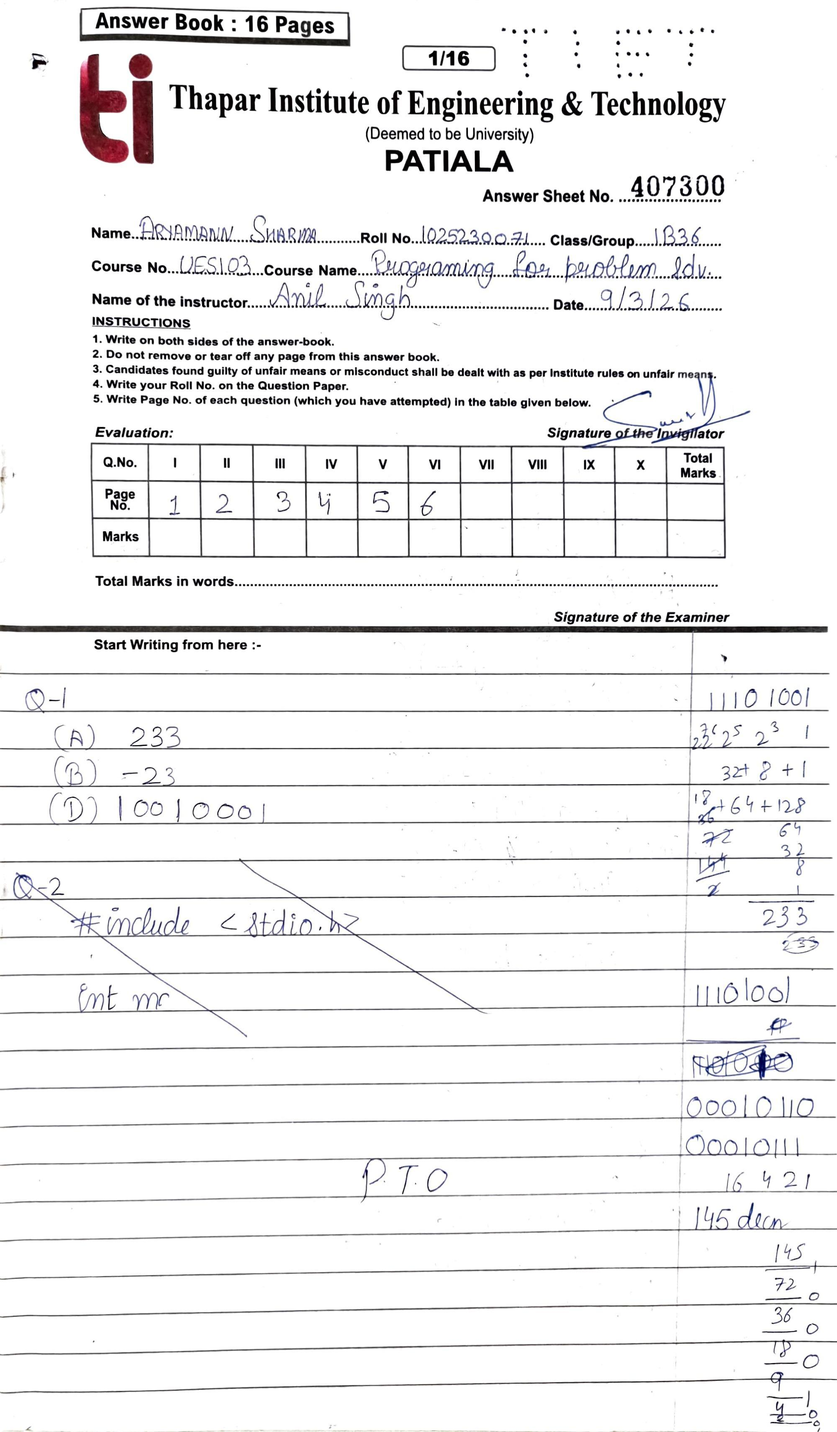cuttings: (10, 853, 500, 1048), (692, 1045, 795, 1081), (768, 1017, 793, 1034)
